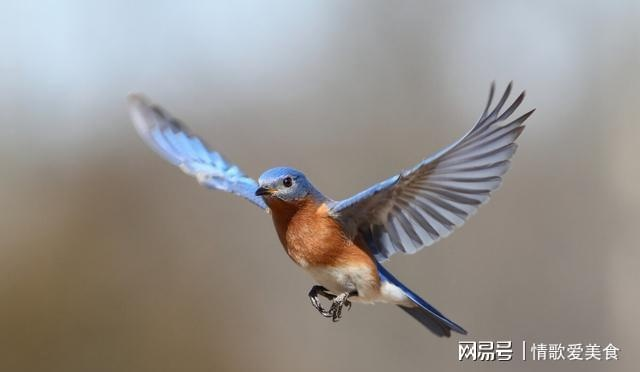bird: (128, 87, 539, 340)
